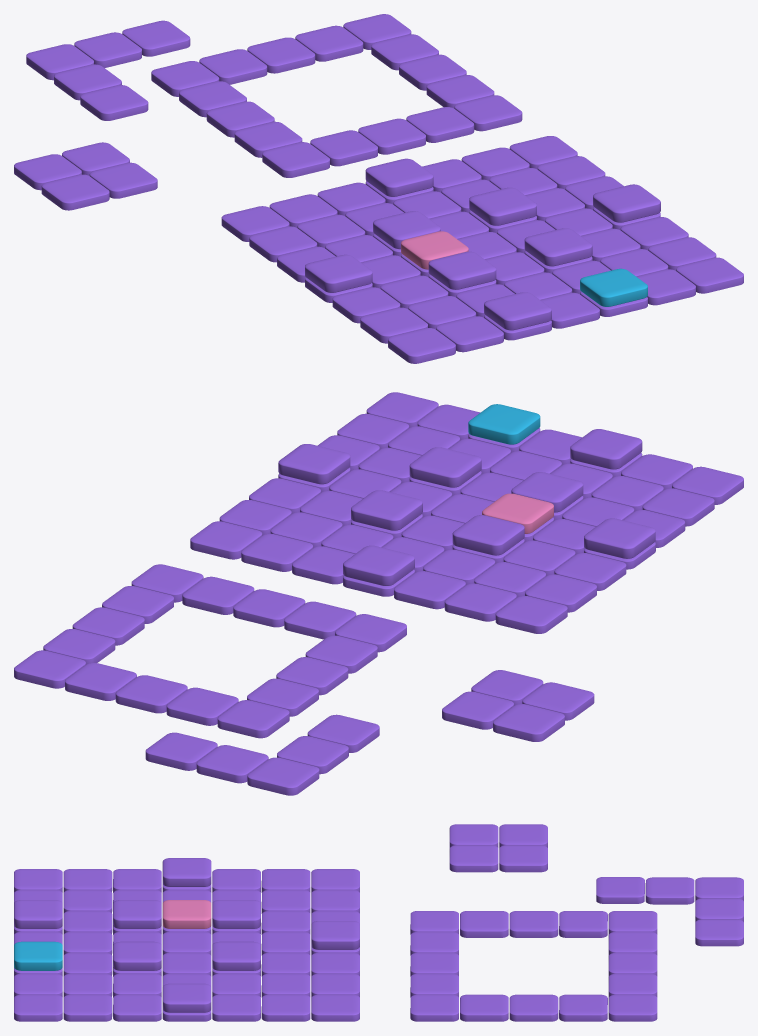
Rendered from Level14.glb.
The picture shows the model from 3 angles, top to bottom: view 1: azimuth 30°, elevation 25°; view 2: azimuth 150°, elevation 25°; view 3: azimuth 270°, elevation 25°; orthographic projection. The views are drawn at different scales.
Visible parts, largest first — view 1: block.005, block.002, block.008, block.006, block.001, block.007, block, block.004, platform.061, platform.051, platform.055, platform.047 (+64 smaller); view 2: block.007, block.005, block.003, block, block.001, block.004, block.006, block.008, platform.059, platform.053, platform.006, platform.062 (+63 smaller); view 3: block.007, block, block.005, block.006, wall.007, block.004, block.001, block.002, block.003, block.008, platform.052, platform.074 (+63 smaller).
Part boxes in pixels (left/top/right/bottom): block.005: left=524, top=228, right=592, bottom=266; block.002: left=428, top=251, right=496, bottom=289; block.008: left=365, top=158, right=433, bottom=196; block.006: left=469, top=187, right=536, bottom=225; block.001: left=484, top=292, right=551, bottom=330; block.007: left=593, top=184, right=660, bottom=222; block: left=580, top=268, right=647, bottom=306; block.004: left=305, top=254, right=372, bottom=292; platform.061: left=41, top=174, right=109, bottom=210; platform.051: left=80, top=85, right=148, bottom=120; platform.055: left=262, top=142, right=329, bottom=177; platform.047: left=388, top=328, right=455, bottom=363; block.007: left=278, top=444, right=350, bottom=484; block.005: left=409, top=447, right=481, bottom=487; block.003: left=452, top=515, right=524, bottom=555; block: left=468, top=404, right=540, bottom=444; block.001: left=570, top=429, right=642, bottom=469; block.004: left=584, top=518, right=655, bottom=558; block.006: left=351, top=490, right=422, bottom=530; block.008: left=343, top=545, right=414, bottom=585; platform.059: left=217, top=700, right=289, bottom=738; platform.053: left=247, top=757, right=319, bottom=795; platform.006: left=495, top=596, right=567, bottom=633; platform.062: left=493, top=704, right=564, bottom=741; block.007: left=162, top=983, right=211, bottom=1012; block: left=14, top=941, right=62, bottom=970; block.005: left=113, top=941, right=161, bottom=970; block.006: left=212, top=941, right=260, bottom=970; wall.007: left=162, top=900, right=211, bottom=928; block.004: left=162, top=858, right=211, bottom=886; block.001: left=14, top=900, right=62, bottom=928; block.002: left=113, top=900, right=161, bottom=928; block.003: left=212, top=900, right=260, bottom=928; block.008: left=311, top=921, right=359, bottom=949; platform.052: left=645, top=877, right=694, bottom=904; platform.074: left=608, top=994, right=657, bottom=1021.
Size of what is drawn, in the model's own units: 22.52 by 1.04 by 36.38.
